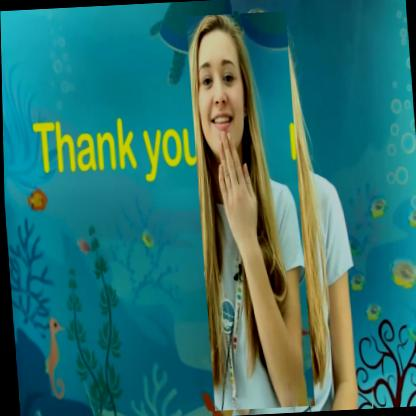ThankYou: (185, 11, 313, 410)
